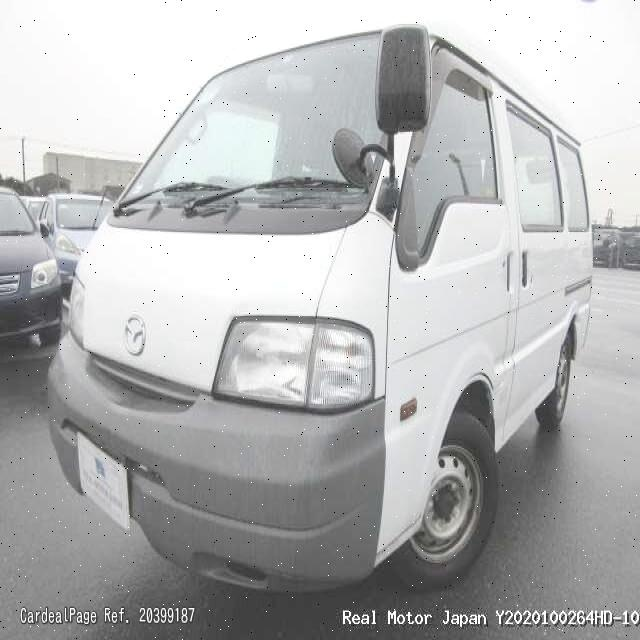Van: (42, 27, 595, 589)
